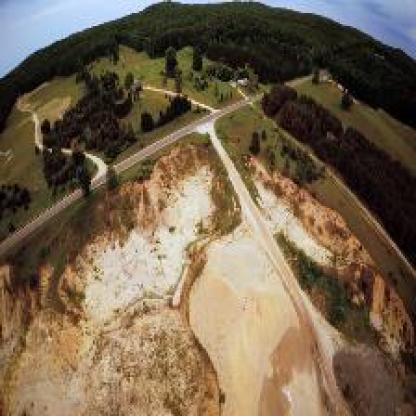other: (91, 180, 338, 392)
